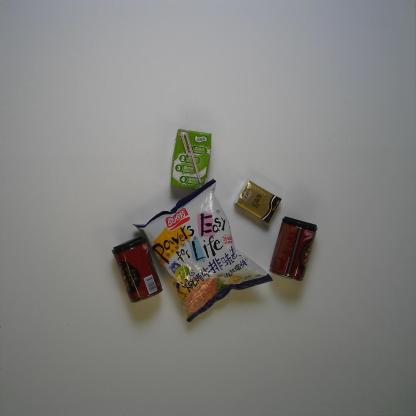Canned Food: (111, 236, 163, 304), (268, 215, 318, 283)
Milk: (170, 128, 212, 190)
Puffed Food: (132, 177, 274, 324)
Tissue: (233, 179, 282, 225)
